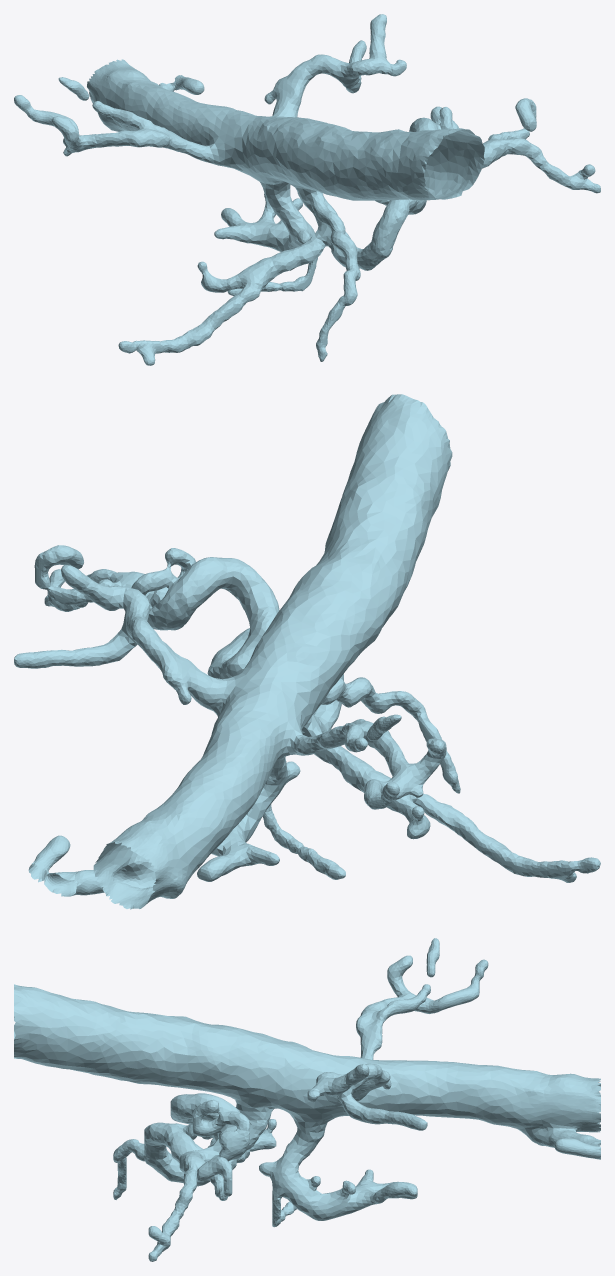
The model's file is artery.obj.
3 renders of one model, top to bottom at view 1: azimuth 30°, elevation 25°; view 2: azimuth 150°, elevation 25°; view 3: azimuth 270°, elevation 25°, orthographic. The views are drawn at different scales.
Visible parts, largest first — view 1: grp1; view 2: grp1; view 3: grp1.
Boxes of the visible parts, bbox=[...] form: grp1: bbox=[14, 14, 600, 365]; grp1: bbox=[14, 394, 600, 909]; grp1: bbox=[14, 938, 600, 1261].
Size of the model in its own units: 197 by 104 by 213.
